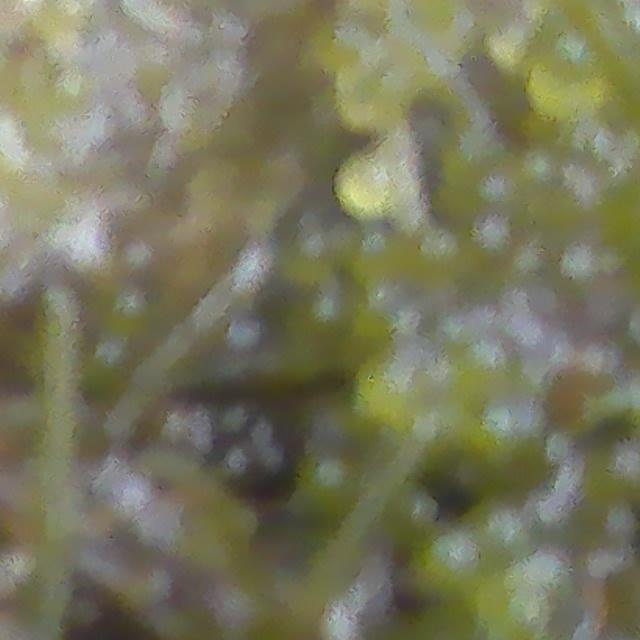SeaGrape: (412, 527, 484, 602), (335, 155, 398, 221)
